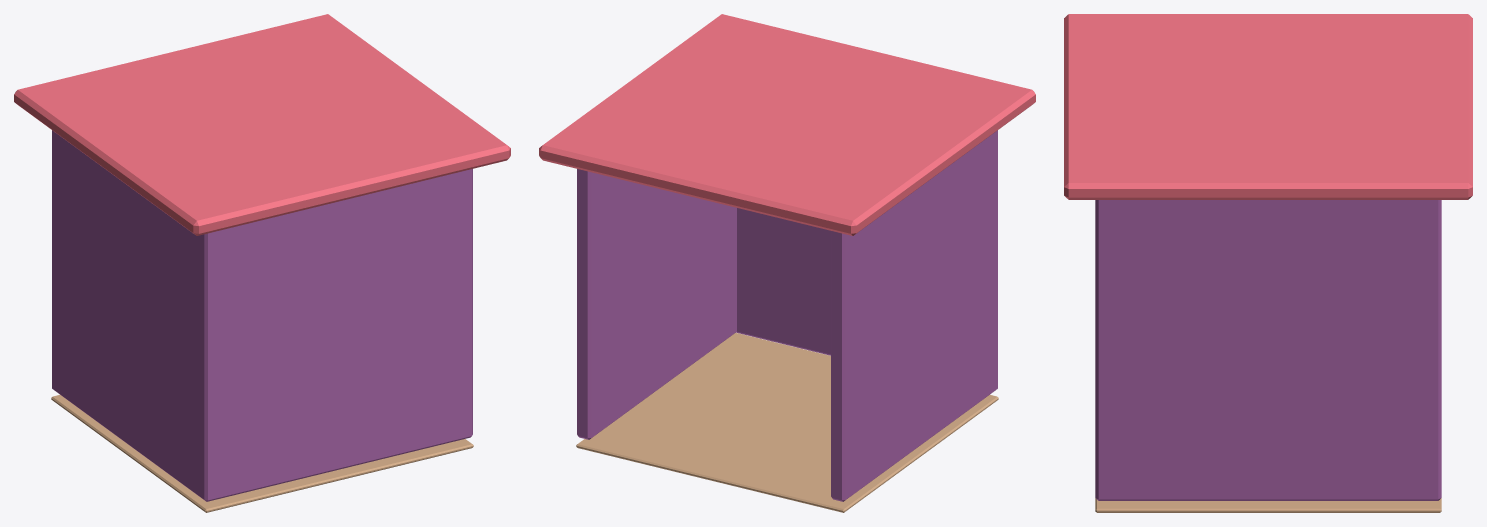
Rendered from yarn_shop.glb.
3 views of the same model, side by side, from view 1: azimuth 30°, elevation 25°; view 2: azimuth 150°, elevation 25°; view 3: azimuth 270°, elevation 25° (orthographic). The views are drawn at different scales.
Parts seen in each view (by area): view 1: yarn_shop_back, yarn_shop_roof, yarn_shop_side_l, yarn_shop, yarn_shop_side_r; view 2: yarn_shop_roof, yarn_shop_side_l, yarn_shop_side_r, yarn_shop, yarn_shop_back; view 3: yarn_shop_side_r, yarn_shop_roof, yarn_shop_back, yarn_shop.
Boxes of the visible parts, box(x1,y1,x2,y2) form: yarn_shop_back: box(198, 171, 465, 501); yarn_shop_roof: box(14, 14, 510, 235); yarn_shop_side_l: box(52, 130, 217, 501); yarn_shop: box(51, 395, 473, 512); yarn_shop_side_r: box(461, 169, 472, 439); yarn_shop_roof: box(539, 14, 1035, 235); yarn_shop_side_l: box(831, 134, 992, 501); yarn_shop_side_r: box(577, 169, 736, 439); yarn_shop: box(576, 333, 998, 512); yarn_shop_back: box(736, 130, 997, 392); yarn_shop_side_r: box(1095, 200, 1441, 500); yarn_shop_roof: box(1064, 14, 1472, 199); yarn_shop_back: box(1095, 200, 1111, 500); yarn_shop: box(1095, 498, 1441, 512).
Size of the model in its own units: 2.6 by 2.4 by 2.6.
